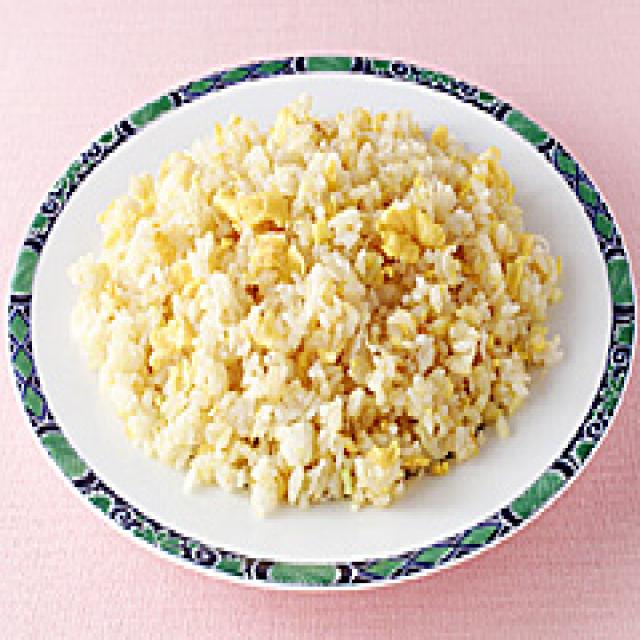米饭主食: (0, 35, 640, 598)
